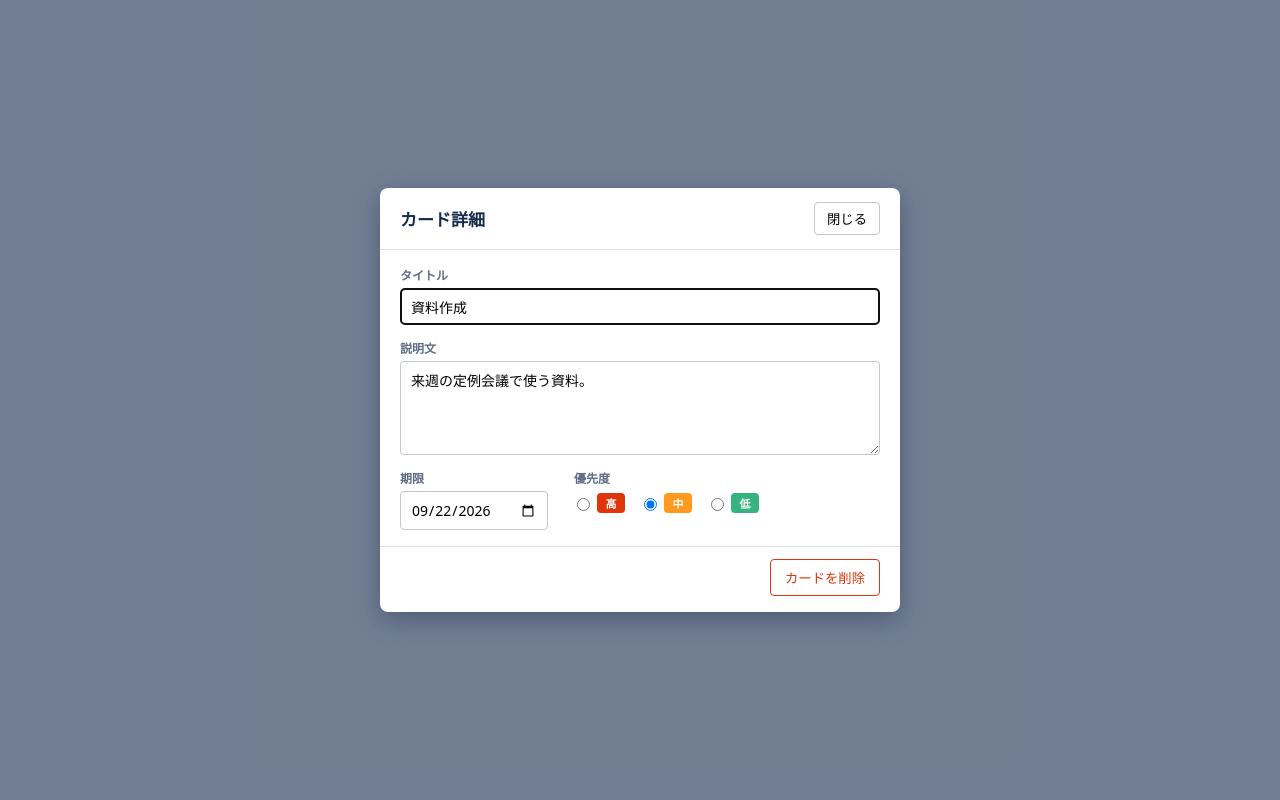
Test: CardDetail › 削除に失敗するとフッターに文言を出し、モーダルは開いたまま
Click the button "カードを削除" at (825, 578), box [770,559,880,596]
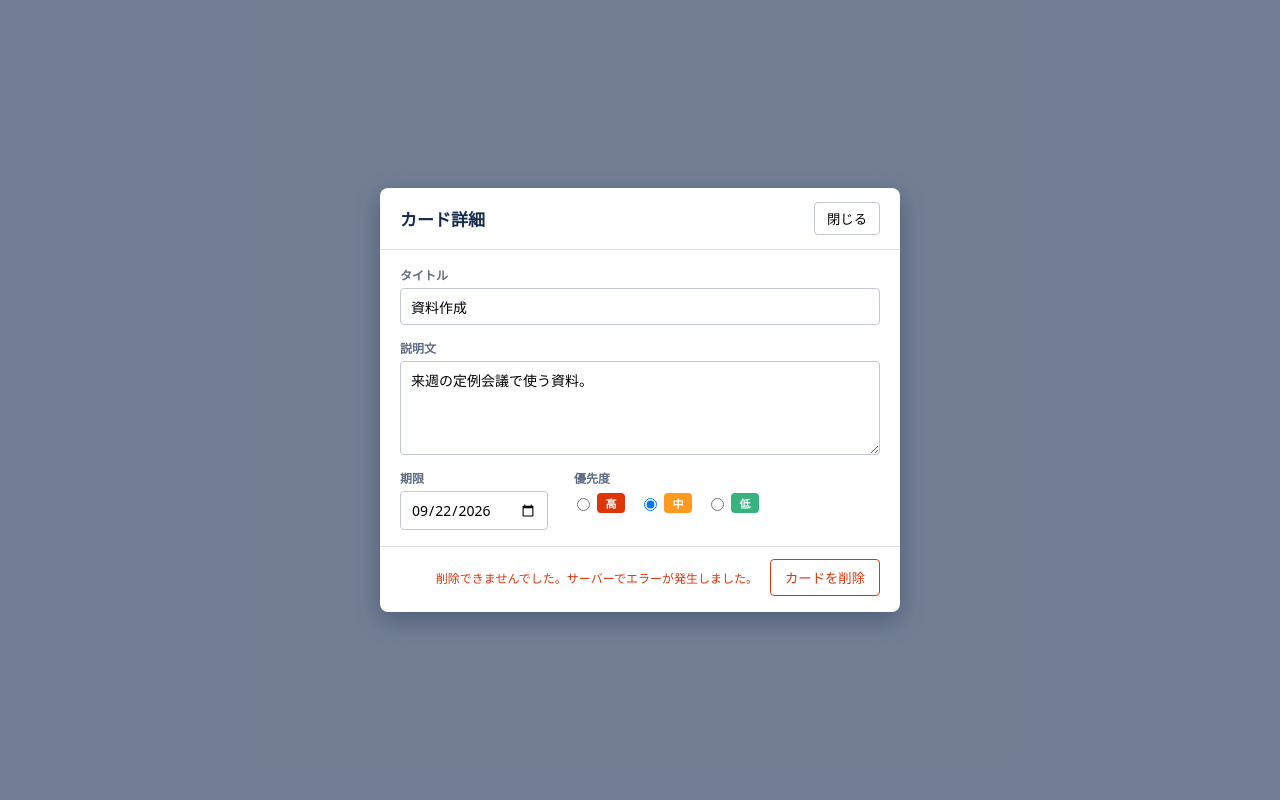
Expected: the dialog "カード詳細" is shown, [380,188,900,612]
Expected: the message reads "削除できませんでした。サーバーでエラーが発生しました。", [436,568,758,586]
